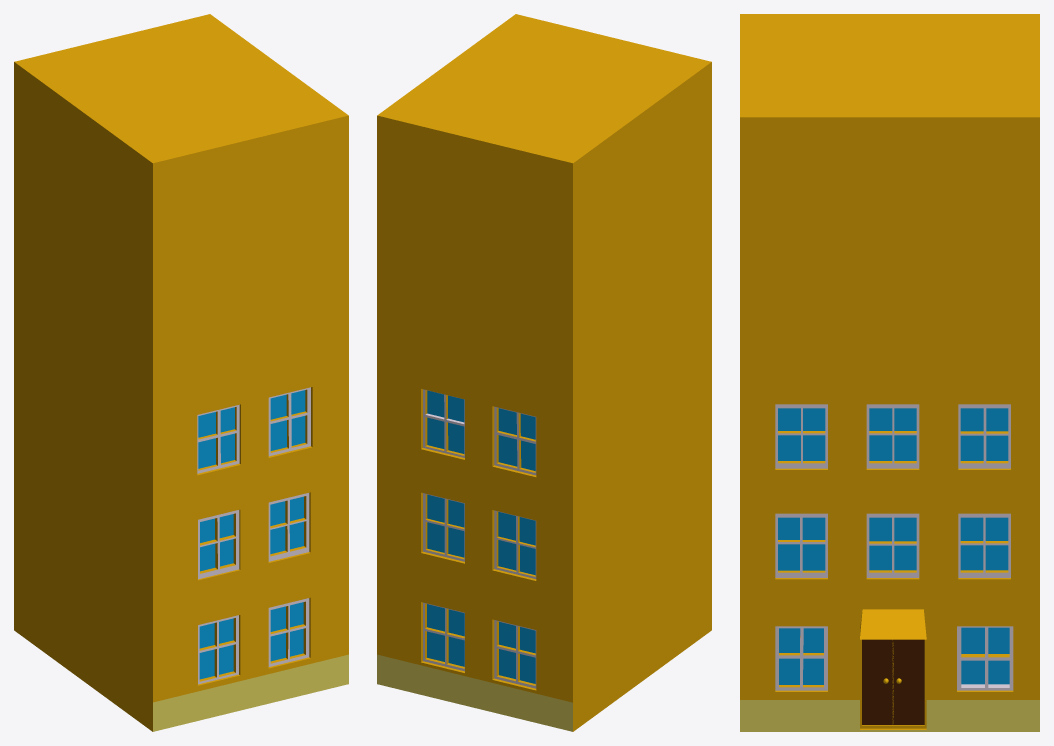
The model's file is High Rise 3 Yellow.fbx.
The picture shows the model from 3 angles, left to right: view 1: azimuth 30°, elevation 25°; view 2: azimuth 150°, elevation 25°; view 3: azimuth 270°, elevation 25°; orthographic projection. The views are drawn at different scales.
Parts seen in each view (by area): view 1: Cube; view 2: Cube; view 3: Cube.
Part boxes in pixels (x1,y1,x2,y2): Cube: [14, 14, 348, 731]; Cube: [377, 14, 711, 731]; Cube: [740, 14, 1039, 731].
Bounding box in the file's own units: 314 × 791 × 350.
